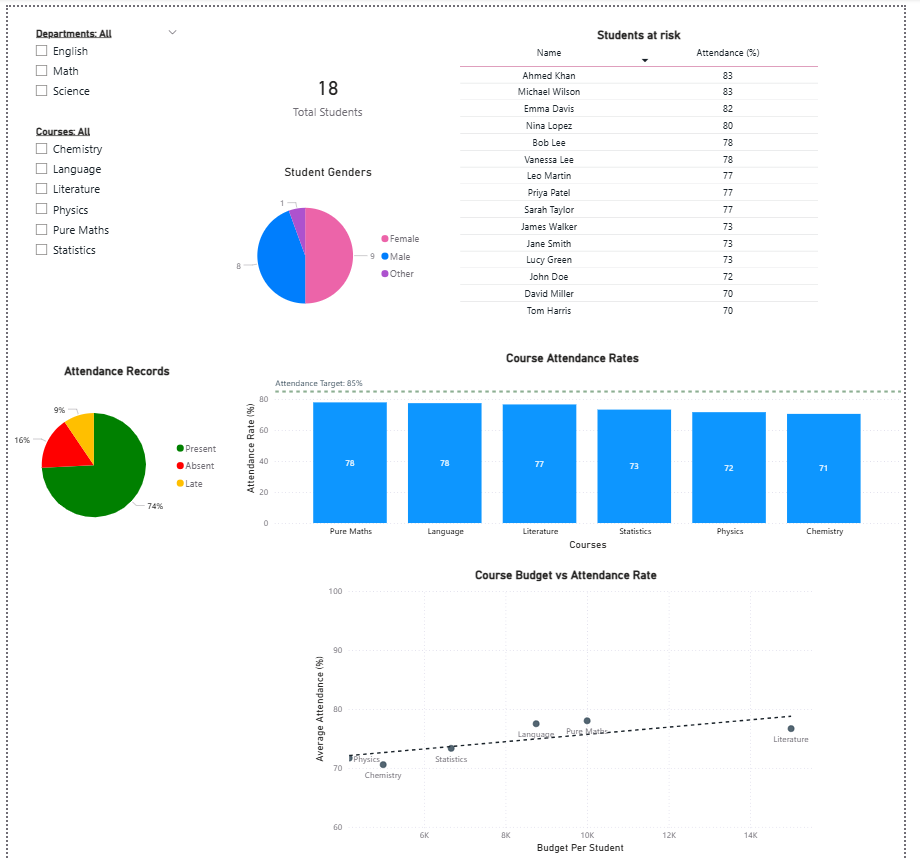

The page's visual inventory and layout, read from the dashboard file:
{"tool":"powerbi","page":{"name":"Page 1","canvas":[1280,1440],"ordinal":0},"visuals":[{"type":"clusteredColumnChart","title":"Course Attendance Rates","fields":{"Category":["vw_courseOverview.courseName"],"Y":["Sum(vw_courseOverview.avgAttendance)"]},"box":[332.5,491.2,947.5,288.8],"z":1000},{"type":"slicer","fields":{"Values":["vw_courseOverview.departmentName"]},"box":[27.1,24.3,227.1,131.4],"z":2000},{"type":"pieChart","title":"Attendance Records","fields":{"Category":["attendances.AttendanceStatusValue"],"Y":["CountNonNull(attendances.attendanceId)"]},"box":[0,510,311.2,270],"z":3000},{"type":"slicer","title":"Courses","fields":{"Values":["courses.courseName"]},"box":[27.5,163.8,226.2,215],"z":4000},{"type":"card","fields":{"Values":["CourseStudent.StudentCount"]},"box":[335,23.8,245,201.2],"z":5000},{"type":"pieChart","title":"Student Genders","fields":{"Category":["students.StudentGenderValue"],"Y":["CourseStudent.StudentCount"]},"box":[311.2,225,291.2,240],"z":6000},{"type":"tableEx","title":"Students at risk","fields":{"Values":["vw_AtRiskStudents.StudentFullName","vw_AtRiskStudents.attendanceAvg"]},"box":[640,23.8,522.5,450],"z":7000},{"type":"scatterChart","title":"Course Budget vs Attendance Rate","fields":{"X":["Sum(vw_courseOverview.budgetPerStudent)"],"Y":["Sum(vw_courseOverview.avgAttendance)"],"Category":["vw_courseOverview.courseName"]},"box":[431.4,801.4,731.4,412.9],"z":8000}]}

Visuals, with their boxes on the page's 1280x1440 design canvas (x1, y1, x2, y2). These are canvas units, not pixel positions in the 920x858 screenshot, which may show the page scaled, cropped or inside an application window:
"Course Attendance Rates" clusteredColumnChart: rect(332, 491, 1280, 780)
slicer - vw_courseOverview.departmentName: rect(27, 24, 254, 156)
"Attendance Records" pieChart: rect(0, 510, 311, 780)
"Courses" slicer: rect(28, 164, 254, 379)
card - CourseStudent.StudentCount: rect(335, 24, 580, 225)
"Student Genders" pieChart: rect(311, 225, 602, 465)
"Students at risk" tableEx: rect(640, 24, 1162, 474)
"Course Budget vs Attendance Rate" scatterChart: rect(431, 801, 1163, 1214)
